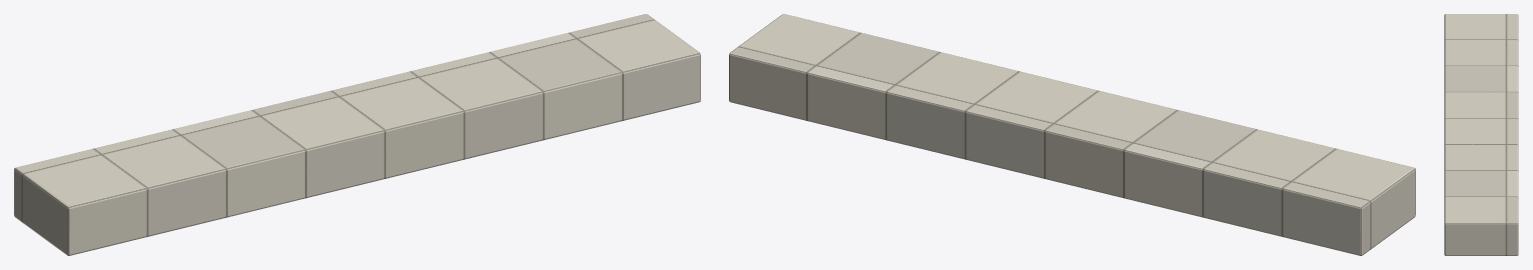
The model's file is MOD_30_SmallStep.glb.
3 renders of one model, left to right at view 1: azimuth 30°, elevation 25°; view 2: azimuth 150°, elevation 25°; view 3: azimuth 270°, elevation 25°, orthographic. The views are drawn at different scales.
Parts seen in each view (by area): view 1: MOD_30_SmallStep_Export; view 2: MOD_30_SmallStep_Export; view 3: MOD_30_SmallStep_Export.
Boxes of the visible parts, <box> form: MOD_30_SmallStep_Export: <box>14,14,700,255</box>; MOD_30_SmallStep_Export: <box>729,14,1415,255</box>; MOD_30_SmallStep_Export: <box>1444,14,1518,255</box>.
Size of the model in its own units: 2 by 0.15 by 0.3.
Materials: 1 (1 with a texture image).
